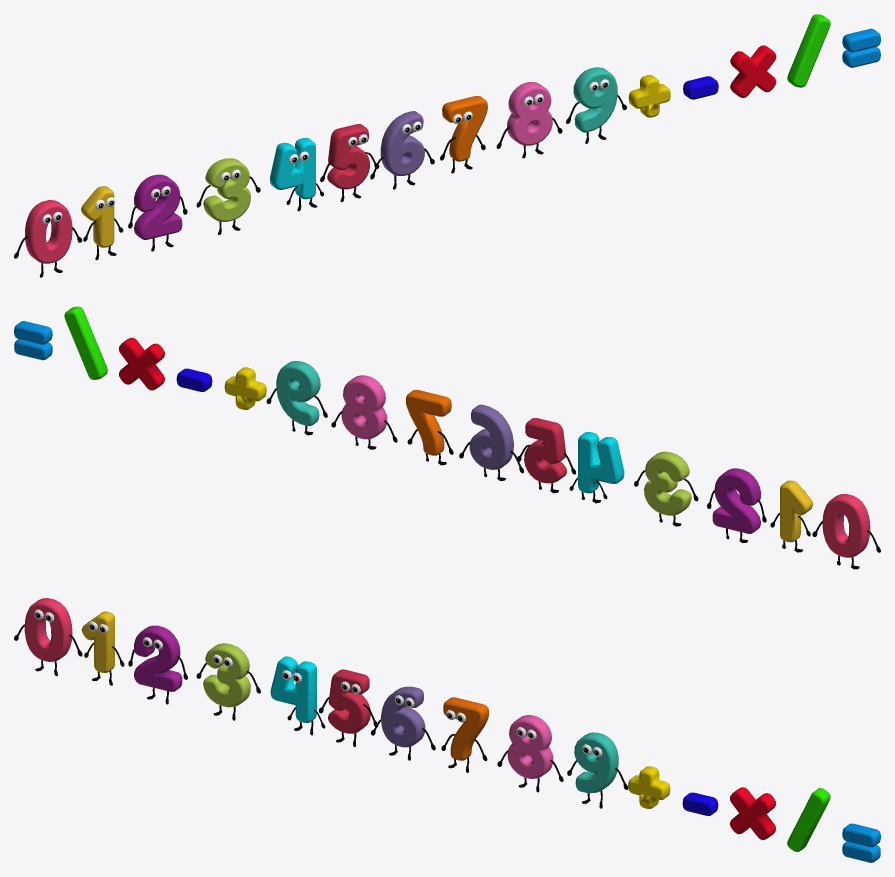
Rendered from numbersAll.fbx.
3 views of the same model, one above another, from view 1: azimuth 30°, elevation 25°; view 2: azimuth 150°, elevation 25°; view 3: azimuth 330°, elevation 25° (orthographic).
Visible parts, largest first — view 1: 2, 0.002, 8, 3, 0.025, 9, 6, 4, 7, x, 1, / (+3 smaller); view 2: 2, 0.002, 8, 3, 0.025, 9, 4, 6, 7, x, 1, / (+3 smaller); view 3: 2, 0.002, 3, 8, 0.025, 4, 9, 6, 7, x, 1, / (+3 smaller).
Boxes of the visible parts, box(x1,y1,x2,y2) form: 2: box(128, 174, 187, 251); 0.002: box(14, 200, 82, 277); 8: box(496, 82, 562, 158); 3: box(196, 158, 260, 234); 0.025: box(320, 124, 379, 202); 9: box(566, 67, 626, 143); 6: box(370, 111, 434, 189); 4: box(270, 137, 323, 211); 7: box(440, 96, 487, 173); x: box(730, 45, 776, 97); 1: box(81, 186, 123, 260); /: box(787, 14, 830, 87); 2: box(707, 468, 766, 542); 0.002: box(812, 494, 880, 569); 8: box(331, 375, 397, 449); 3: box(634, 451, 698, 526); 0.025: box(517, 418, 575, 493); 9: box(266, 361, 327, 435); 4: box(569, 432, 624, 503); 6: box(459, 404, 523, 480); 7: box(405, 389, 453, 465); x: box(119, 337, 164, 390); 1: box(770, 480, 813, 552); /: box(64, 306, 107, 379); 2: box(128, 625, 187, 704); 0.002: box(14, 598, 82, 675); 3: box(196, 643, 260, 720); 8: box(497, 715, 563, 792); 0.025: box(319, 669, 378, 746); 4: box(270, 656, 325, 735); 9: box(567, 732, 628, 808); 6: box(371, 686, 435, 760); 7: box(441, 697, 489, 772); x: box(730, 787, 775, 839); 1: box(81, 611, 124, 685); /: box(787, 788, 830, 851).
Size of the model in its own units: 1024 by 83.4 by 19.79.
18 materials, 1 textured.
